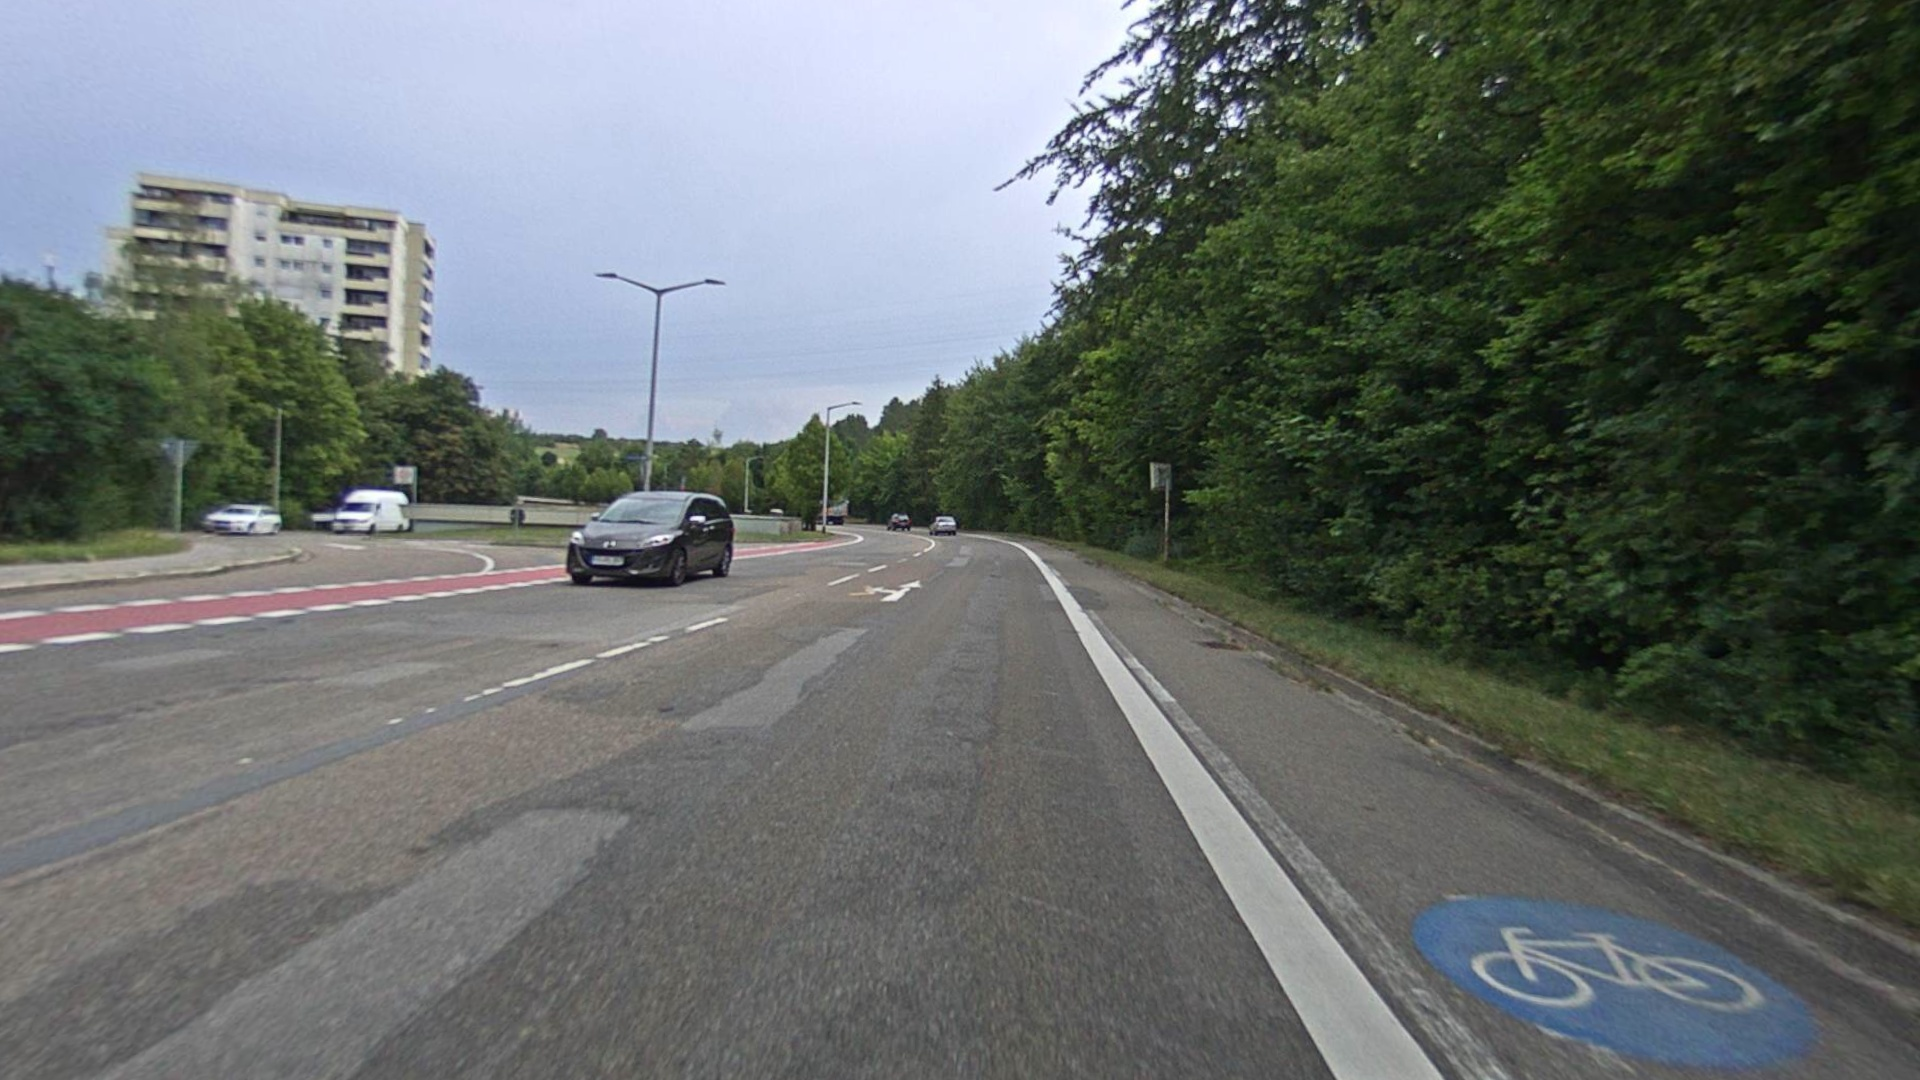car: (563, 488, 738, 589)
